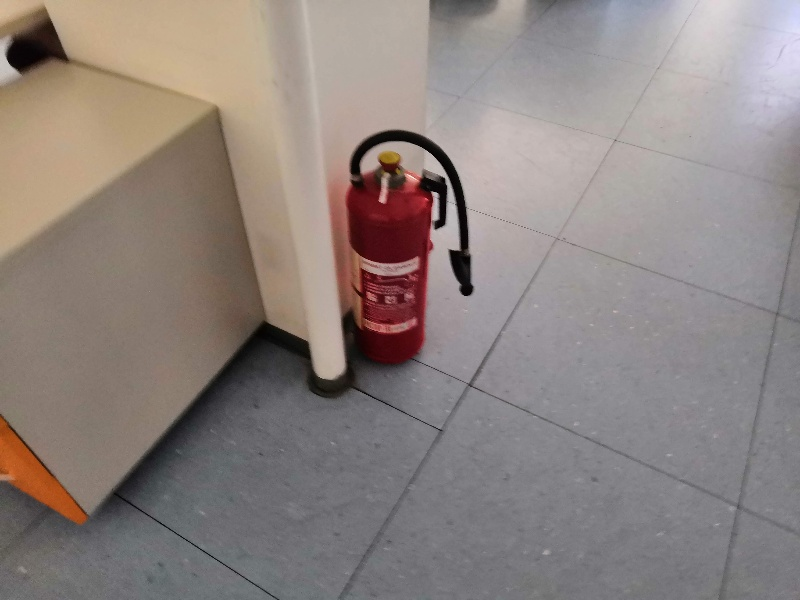vataparat: (346, 130, 474, 365)
